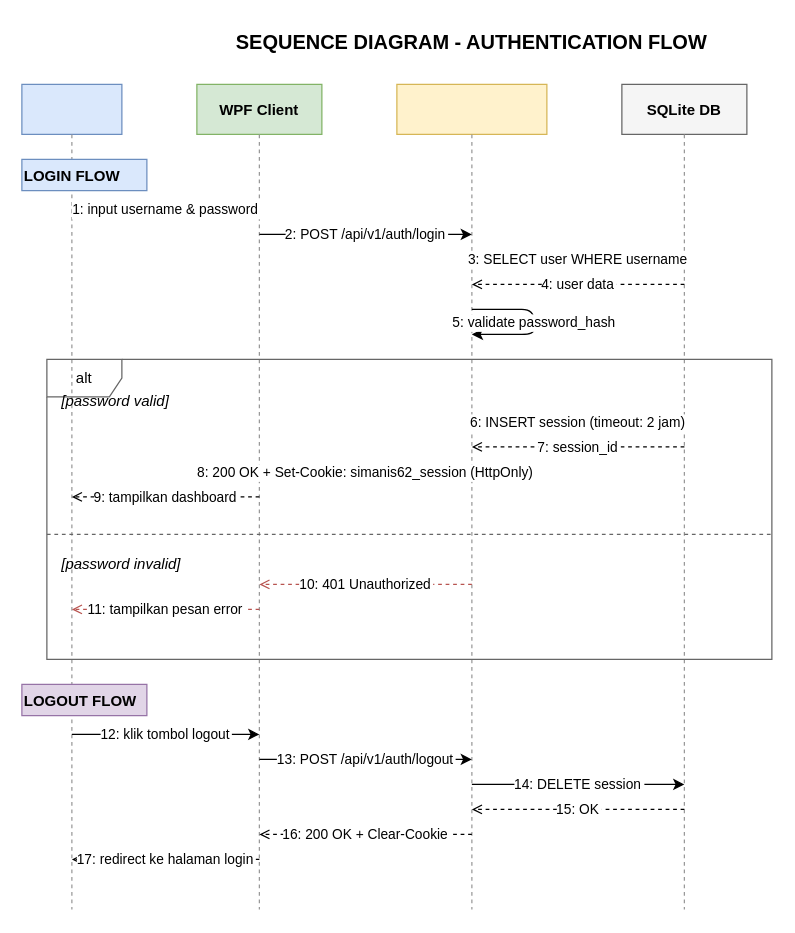
Some shapes in this 795 by 933 pixel diagram are drawn without their labels. Here are the shapes that lost their labels. From the top down, the centre of each, then its label:
(71,108): User
(471,108): FastAPI Server
